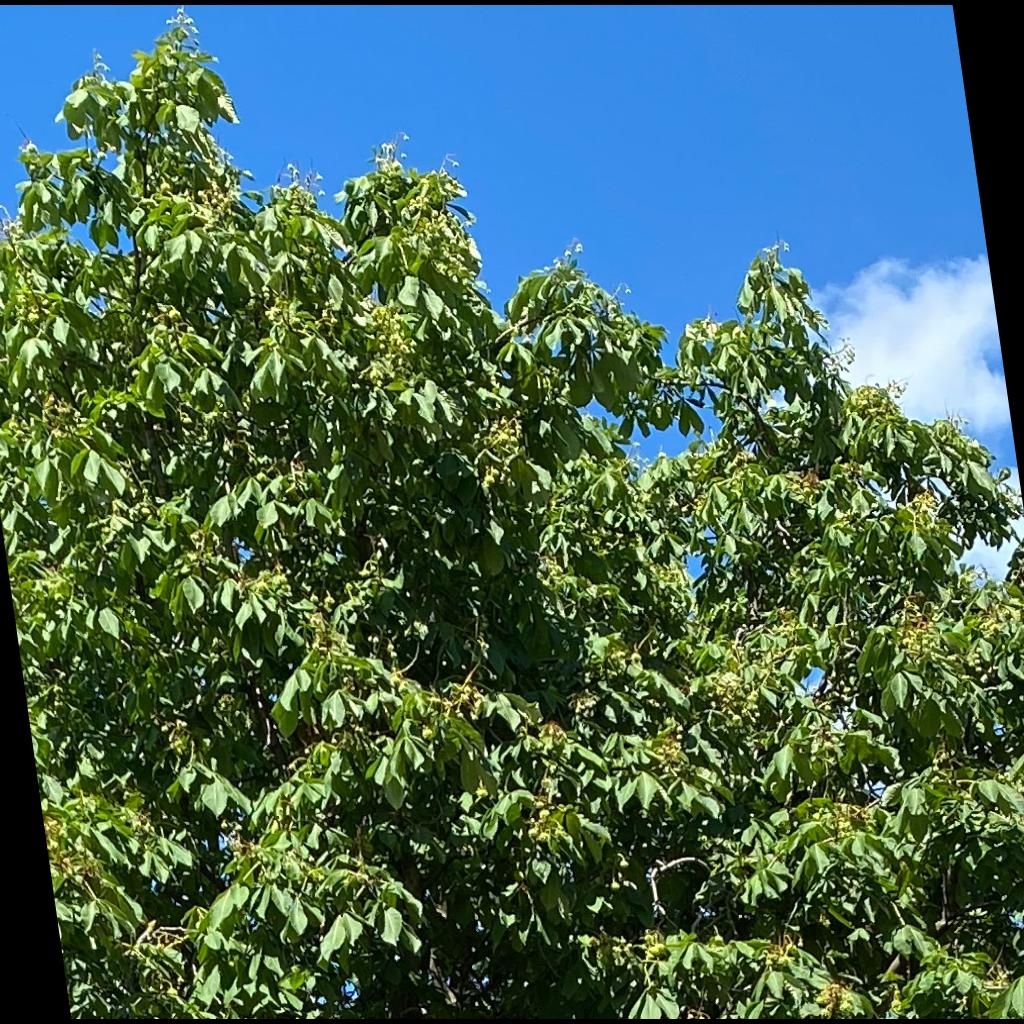tree: (1, 6, 1023, 1018)
